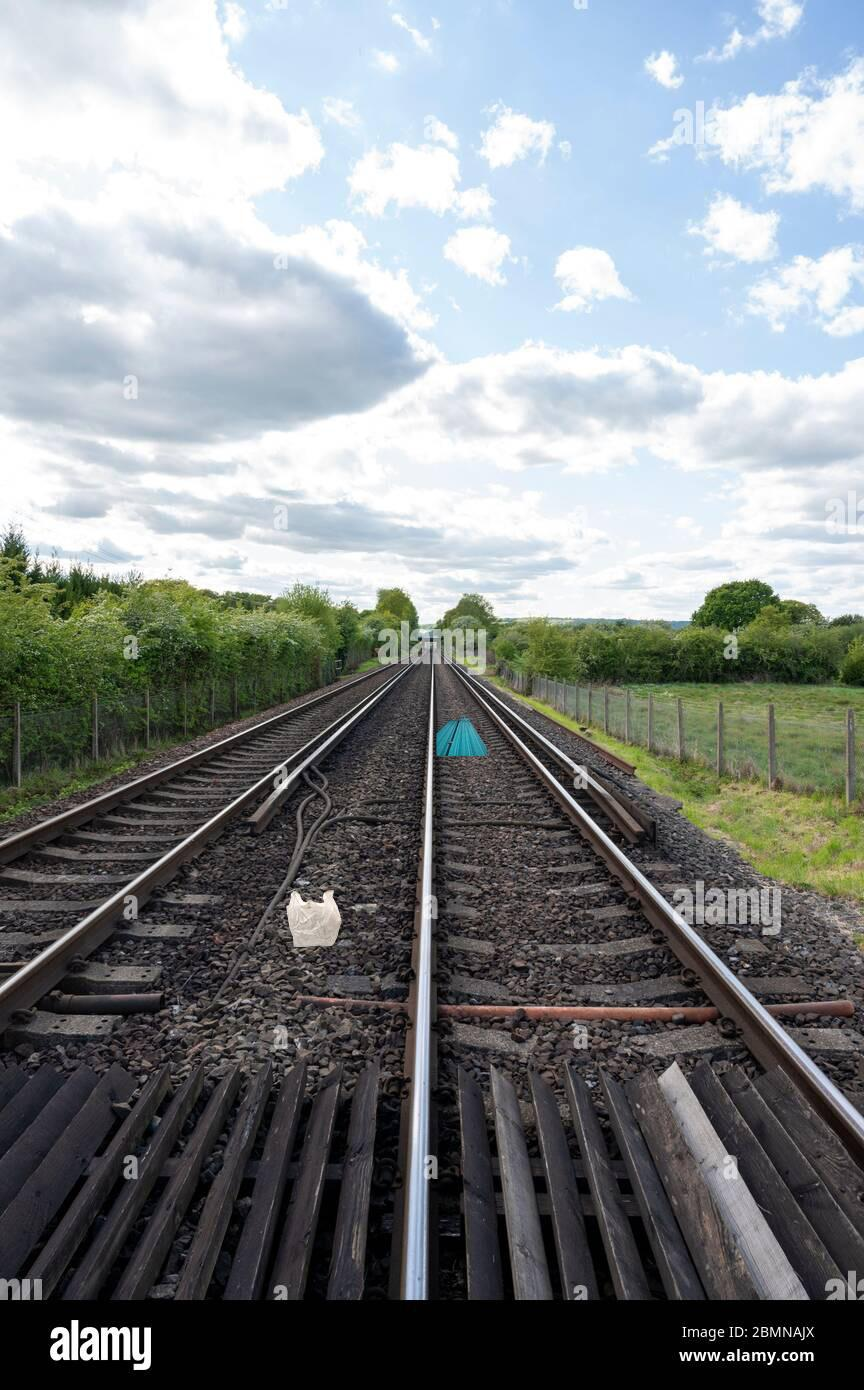Color_steel: (422, 712, 487, 772)
Plastic: (280, 880, 358, 972)
